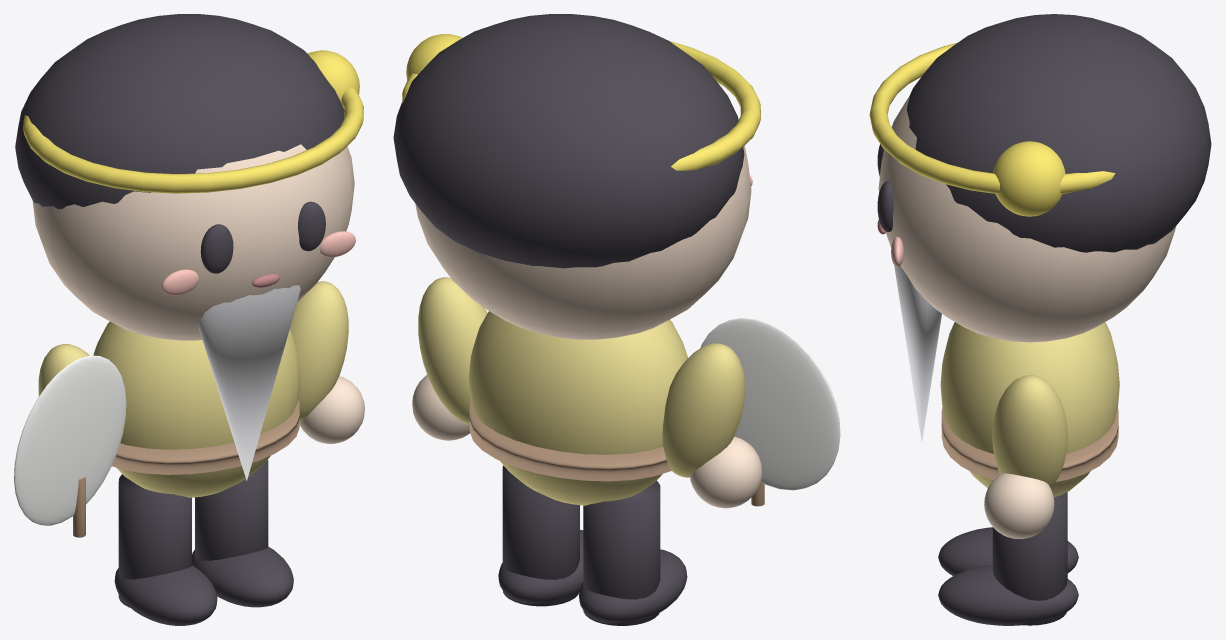
File: yt_priest.fbx
The picture shows the model from 3 angles, left to right: view 1: azimuth 30°, elevation 25°; view 2: azimuth 150°, elevation 25°; view 3: azimuth 270°, elevation 25°; orthographic projection. The views are drawn at different scales.
Parts seen in each view (by area): view 1: hair, head_mesh, body, wp_fan, beard, band, leg, arm_mesh, leg.001, belt, shoe, shoe.001 (+8 smaller); view 2: hair, body, head_mesh, wp_fan, arm_mesh.001, leg, leg.001, arm_mesh, belt, band, hand_mesh.001, shoe (+3 smaller); view 3: hair, head_mesh, body, arm_mesh, band, leg.001, shoe.001, knot, beard, hand_mesh, belt, shoe (+1 smaller).
Boxes of the visible parts, box(x1,y1,x2,y2) form: hair: box(15, 14, 344, 209); head_mesh: box(32, 144, 354, 340); body: box(93, 321, 300, 497); wp_fan: box(14, 355, 126, 525); beard: box(198, 285, 300, 480); band: box(23, 88, 363, 193); leg: box(118, 474, 191, 607); arm_mesh: box(290, 281, 348, 421); leg.001: box(195, 460, 268, 560); belt: box(112, 399, 299, 474); shoe: box(114, 565, 217, 625); shoe.001: box(192, 546, 293, 607); hair: box(393, 14, 744, 268); body: box(468, 311, 687, 505); head_mesh: box(415, 146, 751, 339); wp_fan: box(700, 318, 840, 490); arm_mesh.001: box(662, 343, 744, 477); leg: box(583, 480, 660, 625); leg.001: box(502, 465, 579, 606); arm_mesh: box(418, 277, 487, 424); belt: box(469, 401, 671, 481); band: box(402, 41, 760, 170); hand_mesh.001: box(690, 436, 762, 508); shoe: box(579, 549, 687, 623); hair: box(906, 14, 1211, 252); head_mesh: box(878, 96, 1175, 342); body: box(940, 322, 1119, 497); arm_mesh: box(992, 375, 1067, 487); band: box(869, 43, 1115, 194); leg.001: box(992, 492, 1067, 625); shoe.001: box(938, 565, 1078, 625); knot: box(993, 141, 1065, 216); beard: box(894, 265, 941, 442); hand_mesh: box(984, 473, 1054, 538); belt: box(941, 407, 1118, 481); shoe: box(938, 527, 1078, 575).
Size of the model in its own units: 0.8112 by 1.15 by 0.6318.
